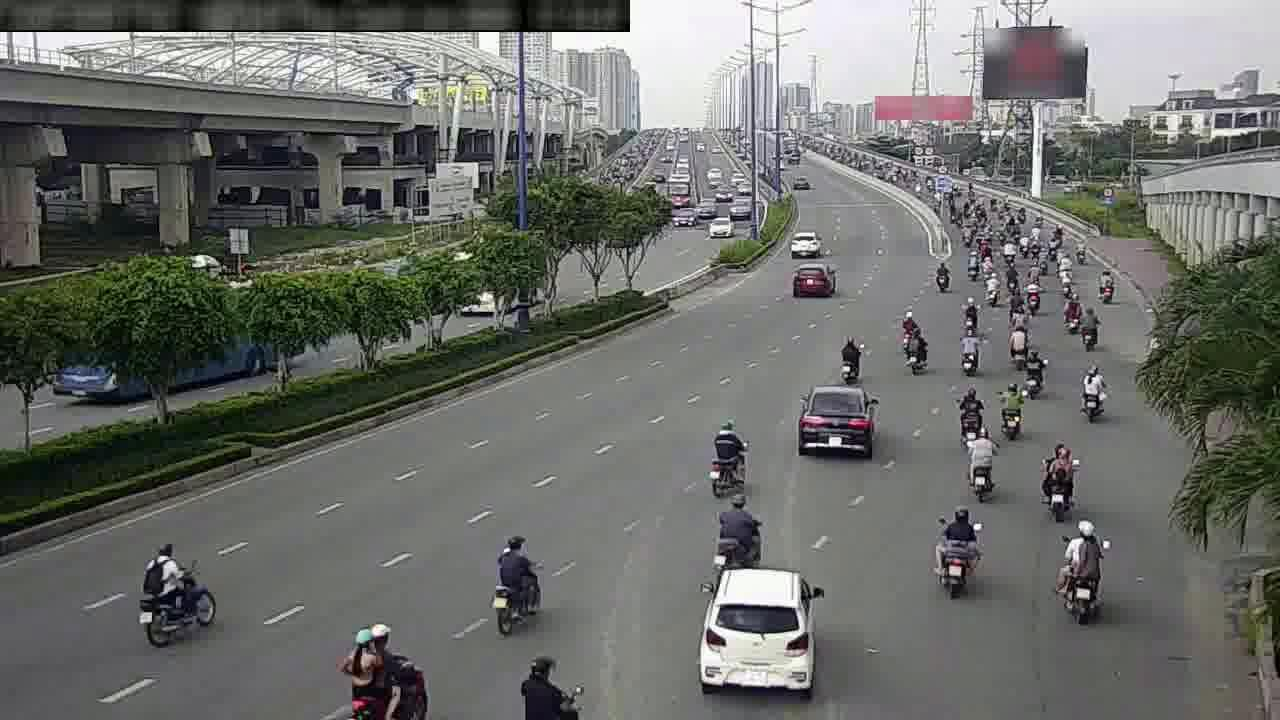container: (698, 558, 827, 691), (790, 376, 883, 456), (784, 255, 837, 300), (784, 225, 824, 258)
motorbike: (130, 538, 219, 650), (336, 614, 431, 714), (483, 530, 547, 634), (1052, 515, 1111, 618), (513, 648, 591, 719), (707, 493, 763, 573), (930, 503, 981, 590), (702, 419, 751, 493), (1034, 439, 1079, 512), (961, 430, 1001, 499), (1072, 361, 1111, 424), (948, 383, 987, 444), (993, 381, 1028, 441), (829, 330, 866, 384), (896, 320, 933, 374), (951, 326, 984, 376), (1000, 318, 1032, 365), (1056, 291, 1086, 335), (1075, 310, 1105, 353), (890, 305, 921, 346), (953, 293, 983, 334), (1023, 348, 1048, 396), (1091, 266, 1119, 305), (928, 255, 955, 294), (1002, 288, 1025, 324), (1022, 277, 1044, 313), (982, 269, 1004, 305)
